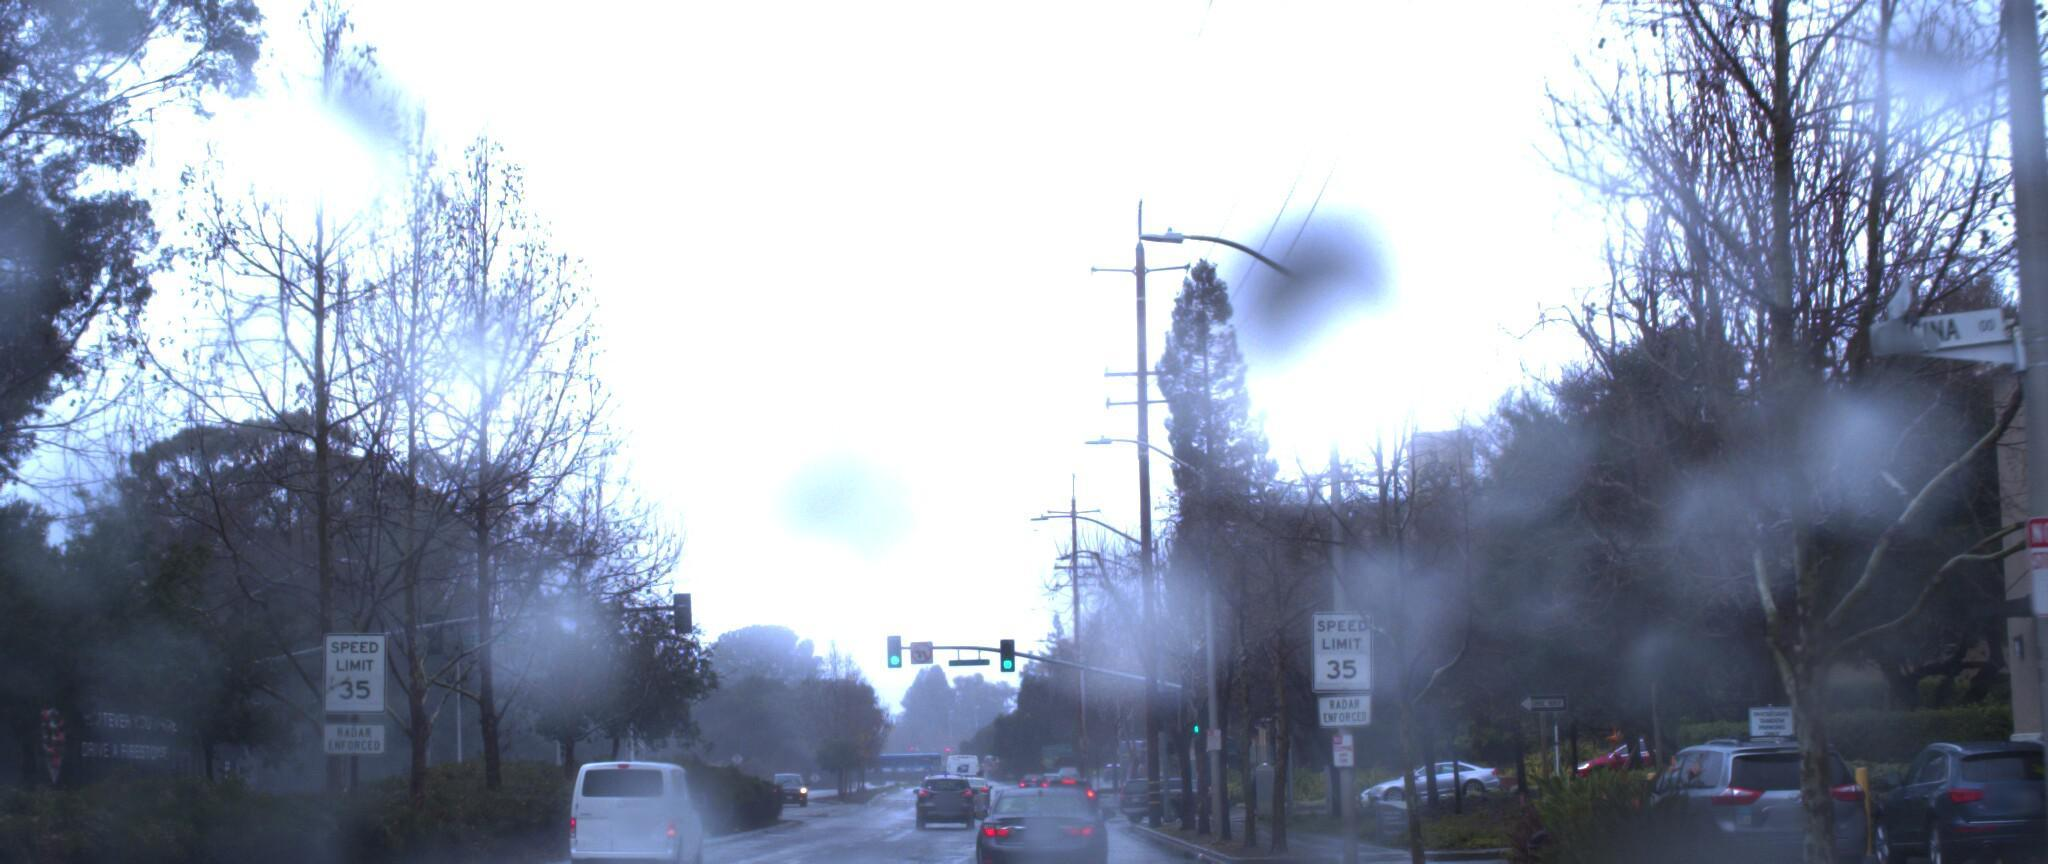car: (1609, 733, 1870, 864), (1856, 743, 2048, 864), (559, 739, 711, 856), (960, 780, 1098, 864)
